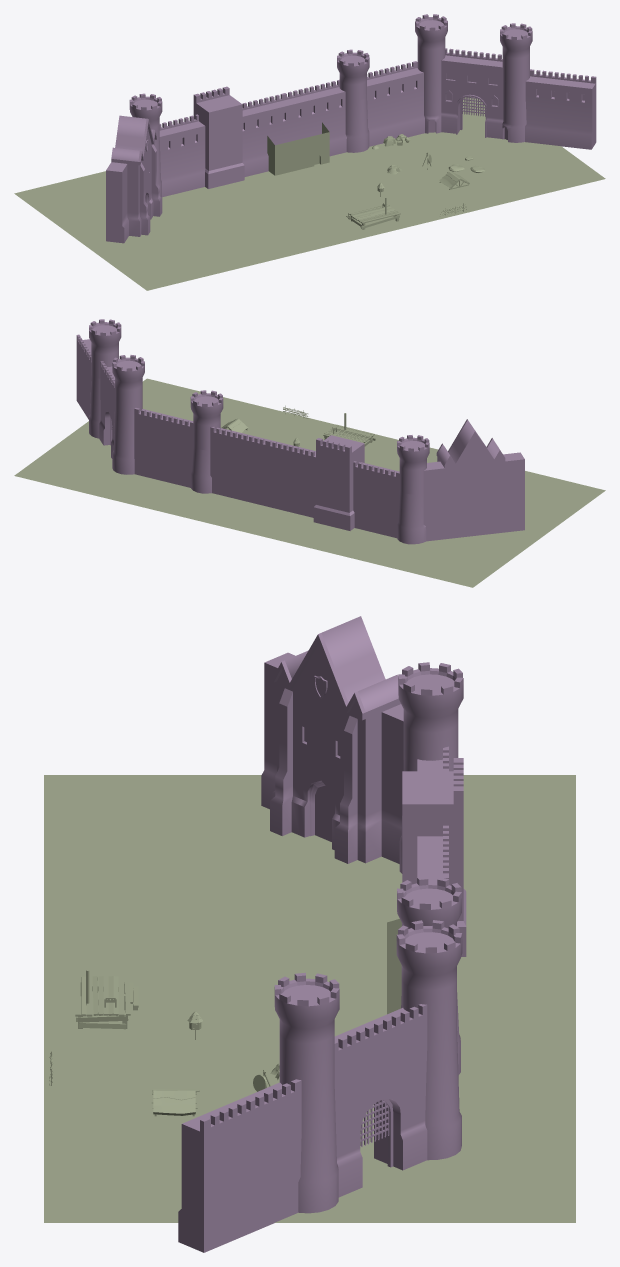
Rendered from ++dvor_2.fbx.
3 views of the same model, one above another, from view 1: azimuth 30°, elevation 25°; view 2: azimuth 150°, elevation 25°; view 3: azimuth 270°, elevation 25° (orthographic). The views are drawn at different scales.
Visible parts, largest first — view 1: pPlane4, pCube75, pCube70, polySurface131, pCube71, pCube72, pCube73, pCube69, polySurface127, pCube76, polySurface130, polySurface129 (+2 smaller); view 2: pPlane4, pCube75, pCube71, pCube69, pCube72, pCube76, pCube73, polySurface130, polySurface133, polySurface129, polySurface127, polySurface131 (+1 smaller); view 3: pPlane4, pCube75, pCube70, polySurface131, polySurface127, polySurface130, pCube72, polySurface133, polySurface129, pCube76, pCube77, polySurface150 (+1 smaller).
Part boxes in pixels (<box>): pPlane4: <box>14,96,605,290</box>; pCube75: <box>106,115,162,243</box>; pCube70: <box>525,69,596,149</box>; polySurface131: <box>441,48,504,139</box>; pCube71: <box>367,61,424,146</box>; pCube72: <box>193,86,244,188</box>; pCube73: <box>159,114,205,197</box>; pCube69: <box>282,79,346,156</box>; polySurface127: <box>500,23,532,142</box>; pCube76: <box>242,93,292,176</box>; polySurface130: <box>415,14,447,133</box>; polySurface129: <box>337,49,369,152</box>; pPlane4: <box>14,378,605,587</box>; pCube75: <box>423,419,524,541</box>; pCube71: <box>134,408,193,487</box>; pCube69: <box>210,427,276,506</box>; pCube72: <box>313,435,364,530</box>; pCube76: <box>265,439,315,517</box>; pCube73: <box>353,461,399,538</box>; polySurface130: <box>112,355,144,474</box>; polySurface133: <box>397,435,429,544</box>; polySurface129: <box>190,390,223,493</box>; polySurface127: <box>89,319,121,438</box>; polySurface131: <box>99,361,114,458</box>; pPlane4: <box>44,775,575,1222</box>; pCube75: <box>261,616,403,863</box>; pCube70: <box>178,1079,301,1252</box>; polySurface131: <box>334,1004,427,1197</box>; polySurface127: <box>274,972,339,1213</box>; polySurface130: <box>396,920,462,1160</box>; pCube72: <box>402,758,466,956</box>; polySurface133: <box>398,662,463,873</box>; polySurface129: <box>397,876,461,1075</box>; pCube76: <box>417,825,448,882</box>; pCube77: <box>387,919,401,1014</box>; polySurface150: <box>151,1089,199,1116</box>.
Size of the model in its own units: 126 by 26.67 by 59.44.
